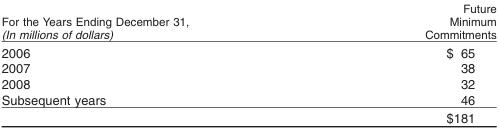table: (0, 1, 495, 125)
table column: (0, 1, 306, 125), (306, 1, 495, 125)
table column header: (0, 1, 495, 42)
table row: (0, 1, 495, 42), (0, 42, 495, 59), (0, 91, 495, 108), (0, 108, 495, 125), (0, 59, 495, 75), (0, 75, 495, 91)
